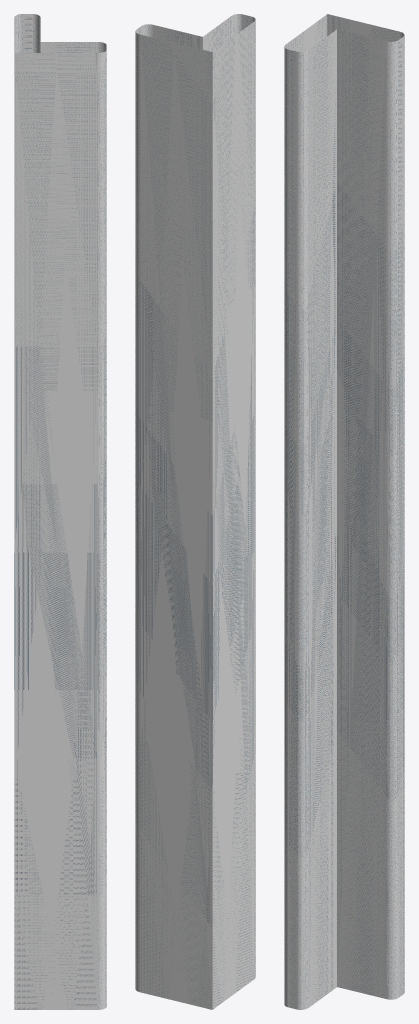
File: PW_CornerFixElem_ds_T2_035x035x010x400.dae
3 renders of one model, left to right at view 1: azimuth 90°, elevation 25°; view 2: azimuth 150°, elevation 25°; view 3: azimuth 330°, elevation 25°, orthographic.
Visible parts, largest first — view 1: group_0; view 2: group_0; view 3: group_0.
Part boxes in pixels (x1=…): group_0: x1=14, y1=14, x2=106, y2=1009; group_0: x1=135, y1=14, x2=255, y2=1009; group_0: x1=284, y1=14, x2=404, y2=1009.
Bounding box in the file's own units: 13.78 × 13.78 × 157.
